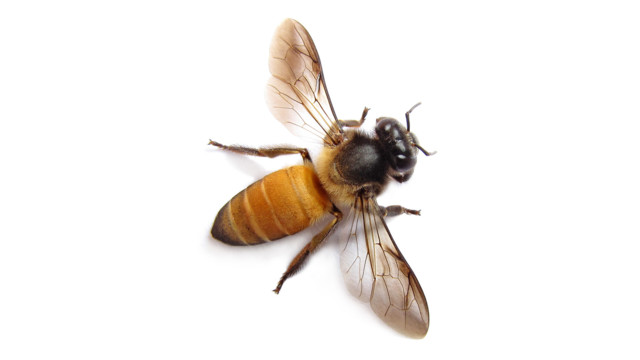bee: (207, 14, 434, 344)
